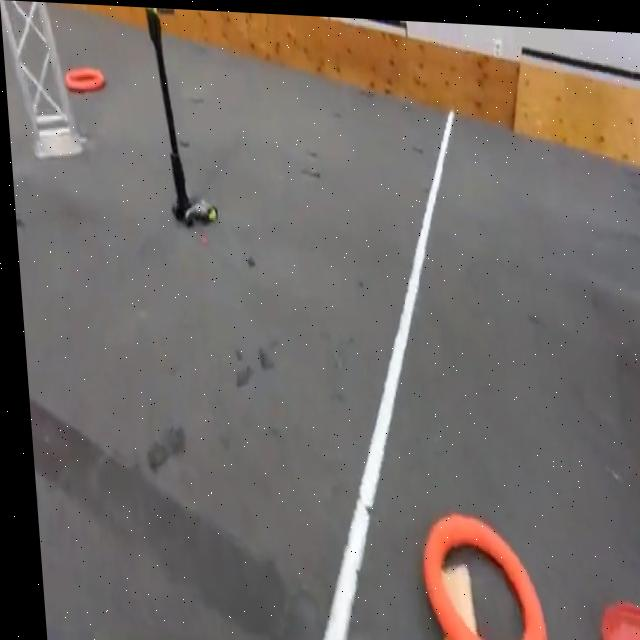note: (410, 512, 537, 640), (63, 66, 107, 95)
